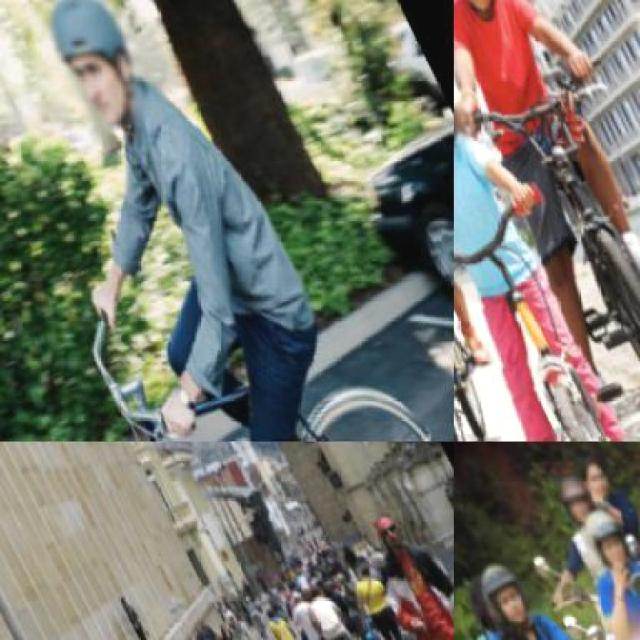With Helmet: (24, 0, 176, 145), (468, 550, 542, 635), (570, 496, 638, 584), (454, 29, 478, 165), (552, 467, 602, 528)
Without Helmet: (576, 448, 619, 502)
